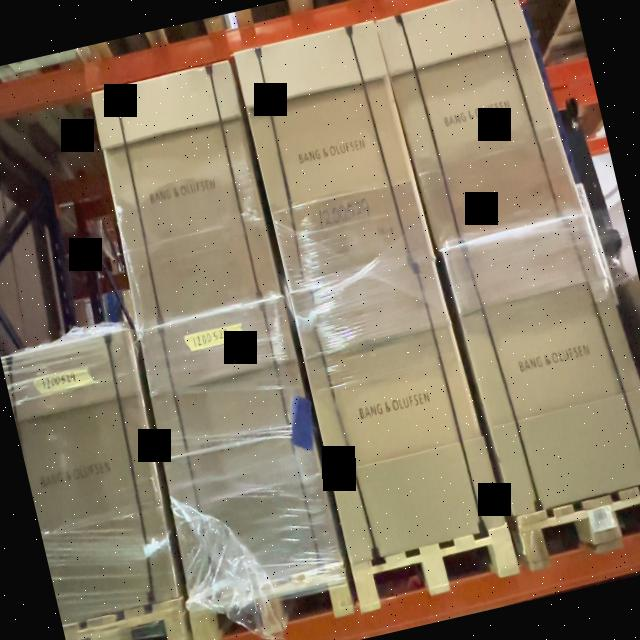box: (290, 257, 505, 565), (140, 295, 343, 596), (443, 214, 640, 517), (234, 21, 434, 292), (376, 0, 582, 248), (91, 60, 280, 329)
